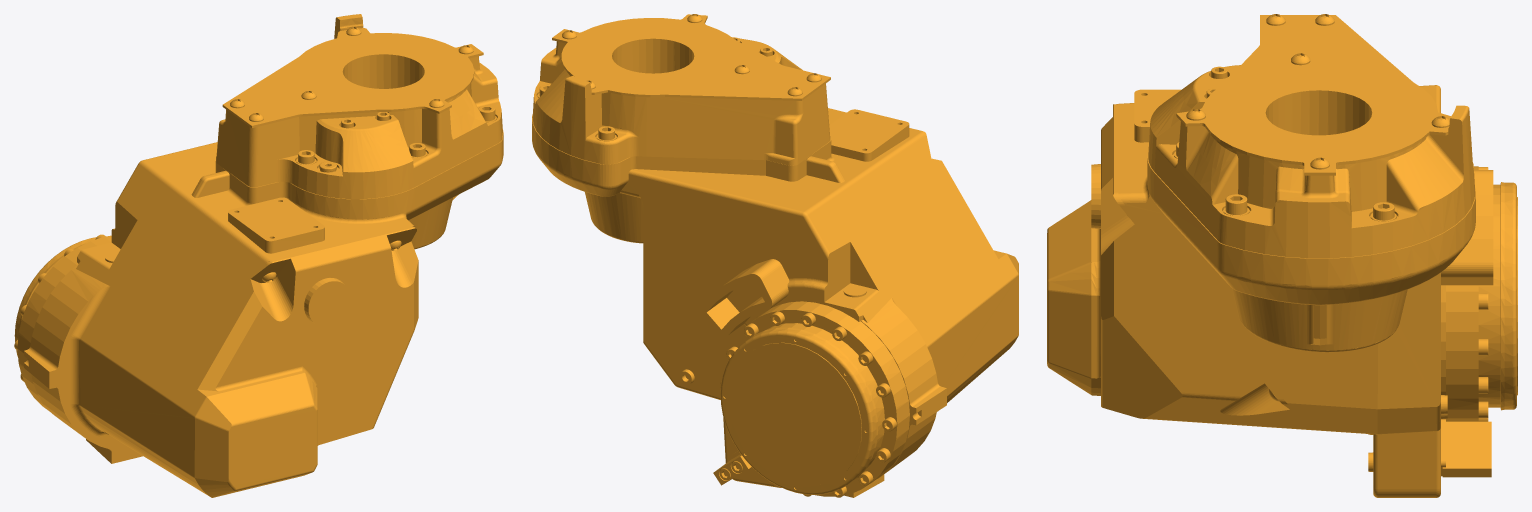
File: ABBIRB1520IDLink3.dae
3 views of the same model, side by side, from view 1: azimuth 30°, elevation 25°; view 2: azimuth 150°, elevation 25°; view 3: azimuth 270°, elevation 25° (orthographic). The views are drawn at different scales.
Visible parts, largest first — view 1: IRB1520IDLink3; view 2: IRB1520IDLink3; view 3: IRB1520IDLink3.
Part boxes in pixels (bbox=[...]): IRB1520IDLink3: bbox=[14, 14, 503, 497]; IRB1520IDLink3: bbox=[532, 14, 1018, 497]; IRB1520IDLink3: bbox=[1047, 14, 1517, 497].
Bounding box in the file's own units: 0.3829 × 0.288 × 0.3232.
